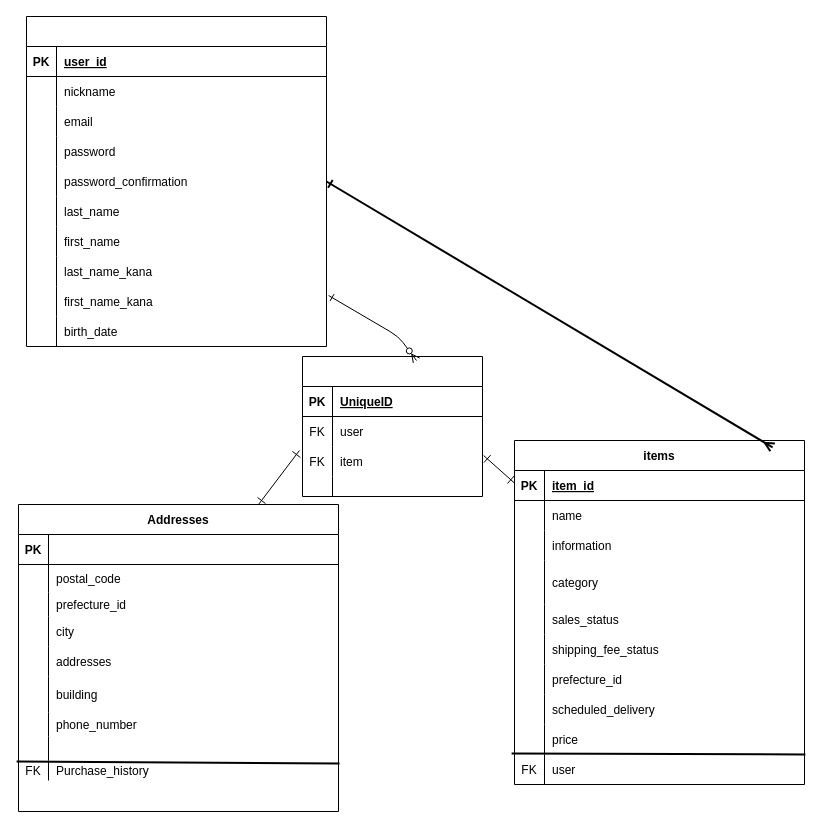
Some shapes in this 822 by 828 pixel diagram are drawn without their labels. The shapes that lost their labels are listed below. From the top down, each one's box as (x1, y1, x2, y2) in pixels, then its label:
(26, 16, 326, 346): Users
(302, 356, 482, 496): Purchase_histories
